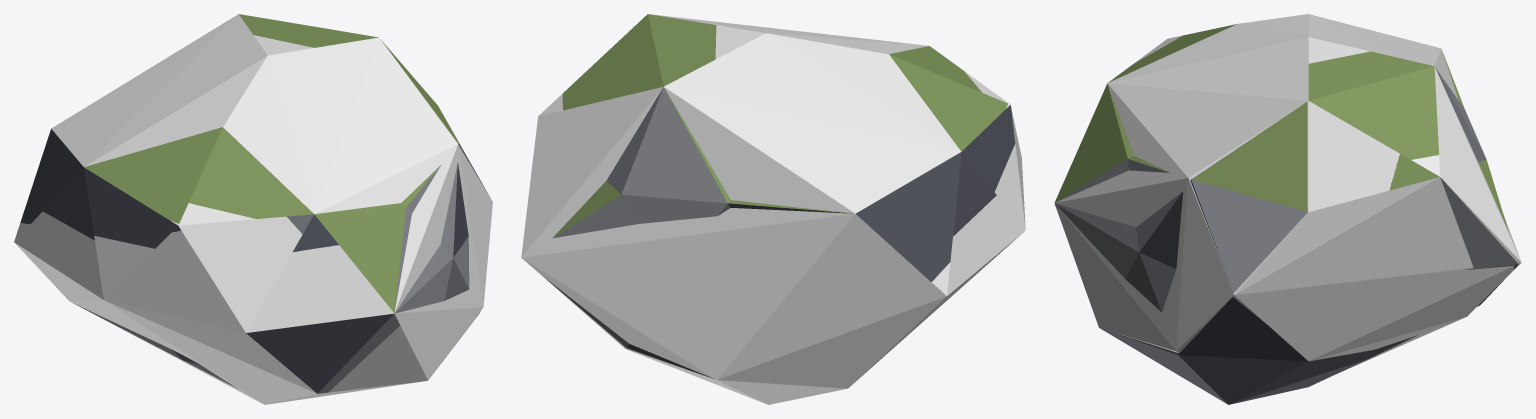
The model's file is rock_valley_3.glb.
3 renders of one model, left to right at view 1: azimuth 30°, elevation 25°; view 2: azimuth 150°, elevation 25°; view 3: azimuth 270°, elevation 25°, orthographic. The views are drawn at different scales.
Parts seen in each view (by area): view 1: rock_valley_3_col, rock_valley_3; view 2: rock_valley_3_col, rock_valley_3; view 3: rock_valley_3_col, rock_valley_3.
Boxes of the visible parts, <box> form: rock_valley_3_col: <box>14,14,492,404</box>; rock_valley_3: <box>20,14,489,393</box>; rock_valley_3_col: <box>521,14,1025,404</box>; rock_valley_3: <box>544,14,1015,378</box>; rock_valley_3_col: <box>1054,14,1521,373</box>; rock_valley_3: <box>1054,24,1518,404</box>.
Size of what is drawn, in the model's own units: 2.48 by 2.07 by 2.5.
